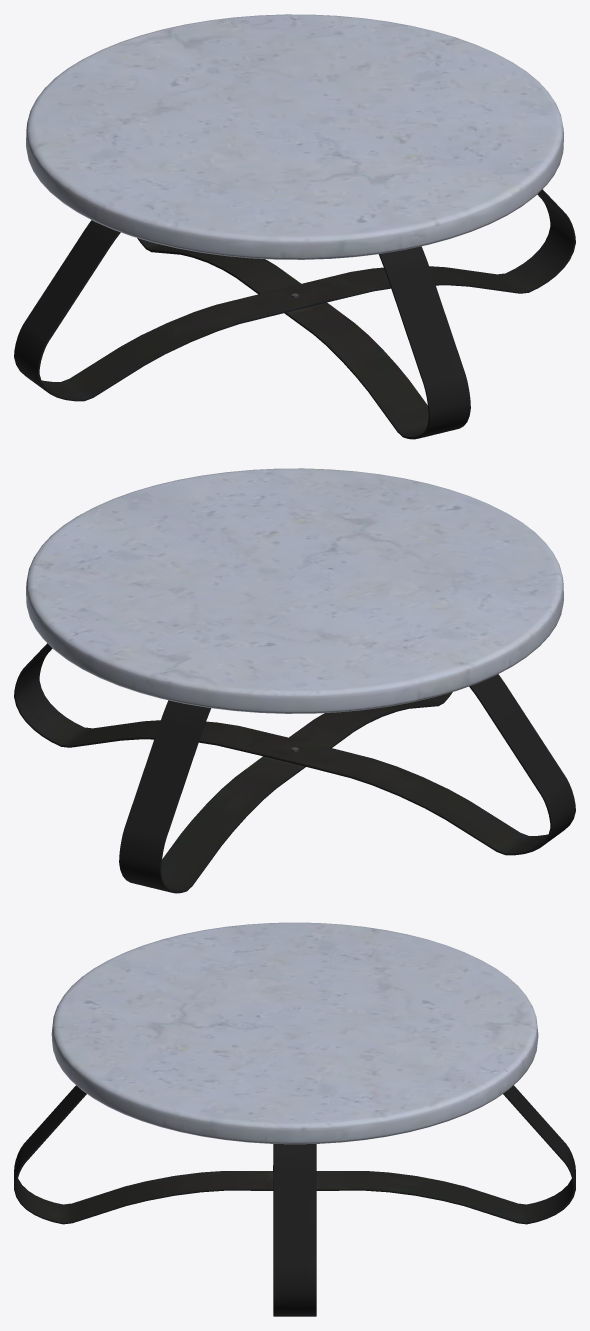
File: coffee_table_round_01.glb
3 renders of one model, top to bottom at view 1: azimuth 30°, elevation 25°; view 2: azimuth 150°, elevation 25°; view 3: azimuth 270°, elevation 25°, orthographic. The views are drawn at different scales.
Visible parts, largest first — view 1: coffee_table_round_01; view 2: coffee_table_round_01; view 3: coffee_table_round_01.
Boxes of the visible parts, left/top/right/bottom form: coffee_table_round_01: left=14, top=14, right=575, bottom=439; coffee_table_round_01: left=14, top=468, right=575, bottom=893; coffee_table_round_01: left=14, top=922, right=575, bottom=1316.
Size of the model in its own units: 1.3 by 0.4911 by 1.3.
2 materials, 2 textured.
